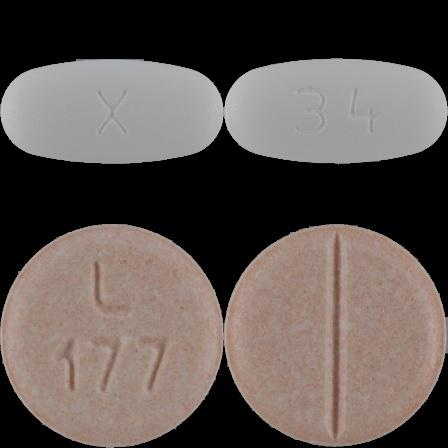16714-305: (0, 0, 224, 224)
